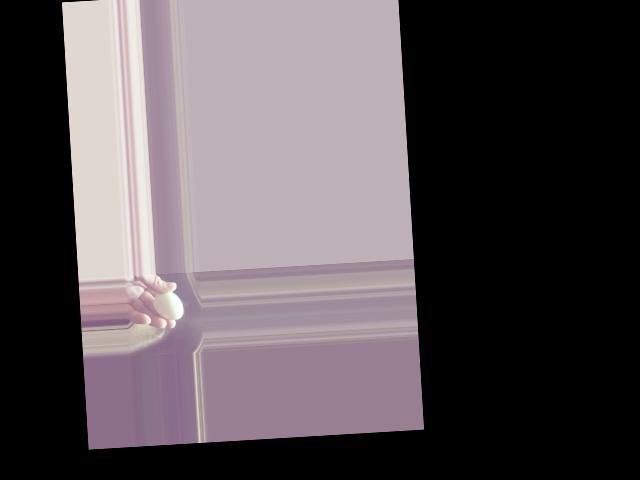egg: (152, 290, 183, 320)
